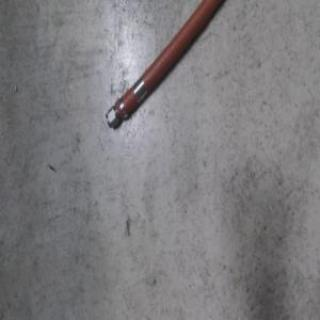Hosetrack_idkeyframe: (103, 0, 226, 130)
